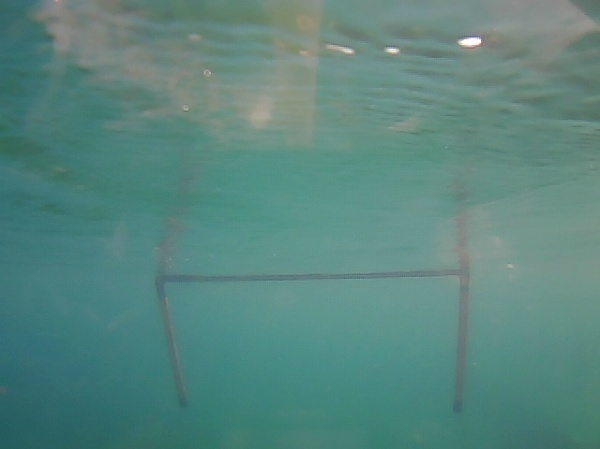qual_gate: (152, 275, 190, 408), (449, 269, 471, 415)
